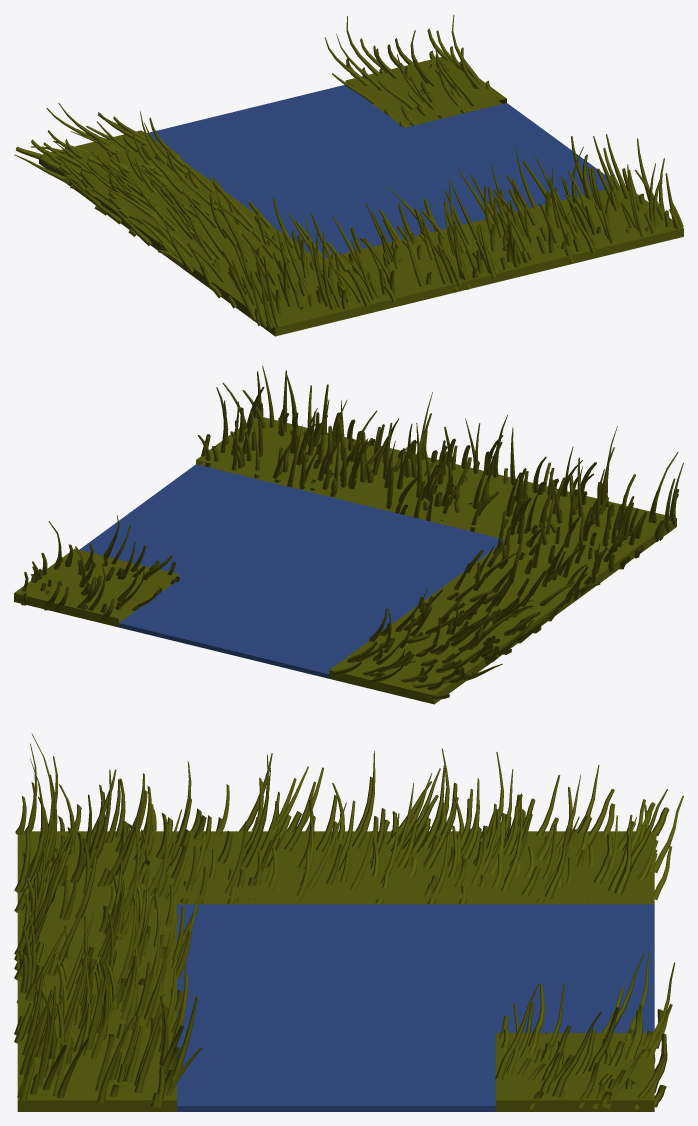
The model's file is SM_Tile Curved River.fbx.
3 renders of one model, top to bottom at view 1: azimuth 30°, elevation 25°; view 2: azimuth 150°, elevation 25°; view 3: azimuth 270°, elevation 25°, orthographic. The views are drawn at different scales.
Parts seen in each view (by area): view 1: Curved River; view 2: Curved River; view 3: Curved River.
Part boxes in pixels (bbox=[...]): Curved River: bbox=[14, 15, 683, 336]; Curved River: bbox=[14, 365, 683, 704]; Curved River: bbox=[14, 733, 683, 1111].
Size of the model in its own units: 44.47 by 8.36 by 41.41.
